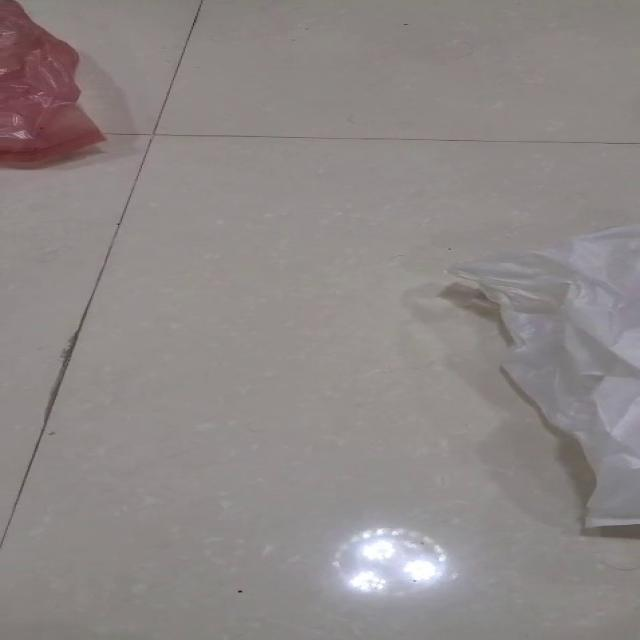plastic: (442, 223, 639, 528), (0, 0, 107, 167)
